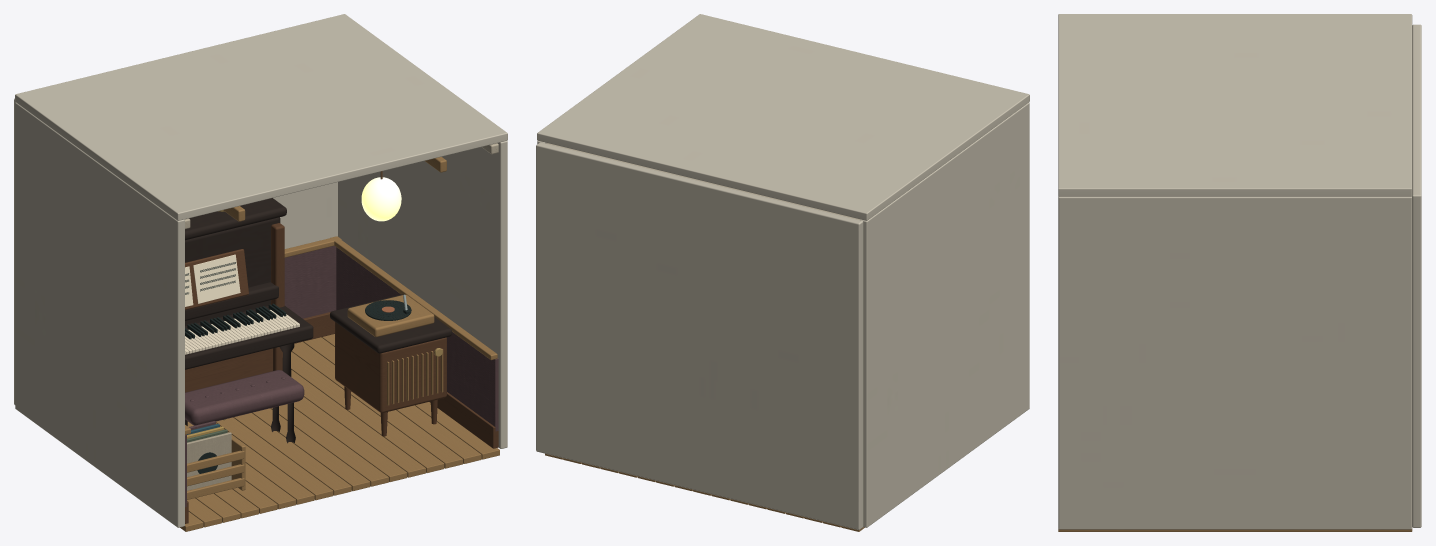
The model's file is music.glb.
The picture shows the model from 3 angles, left to right: view 1: azimuth 30°, elevation 25°; view 2: azimuth 150°, elevation 25°; view 3: azimuth 270°, elevation 25°; orthographic projection. The views are drawn at different scales.
Parts seen in each view (by area): view 1: Surface_Ivory_linen_plaster, Surface_Warm_oak, Surface_Claret_fabric, Surface_Walnut_joinery, Surface_Dark_oiled_walnut, Surface_Warm_paper, Surface_Ink, Surface_Cream_ceramic, Surface_emissive_warm, Surface_Linen, RecordPlatter; view 2: Surface_Ivory_linen_plaster, Surface_Warm_oak; view 3: Surface_Ivory_linen_plaster, Surface_Warm_oak.
Boxes of the visible parts, x1=… form: Surface_Ivory_linen_plaster: x1=14, y1=14, x2=507, y2=527; Surface_Warm_oak: x1=180, y1=157, x2=499, y2=531; Surface_Claret_fabric: x1=185, y1=245, x2=498, y2=507; Surface_Walnut_joinery: x1=185, y1=223, x2=498, y2=523; Surface_Dark_oiled_walnut: x1=185, y1=198, x2=451, y2=443; Surface_Warm_paper: x1=185, y1=254, x2=240, y2=306; Surface_Ink: x1=185, y1=262, x2=409, y2=473; Surface_Cream_ceramic: x1=185, y1=310, x2=299, y2=354; Surface_emissive_warm: x1=361, y1=177, x2=401, y2=221; Surface_Linen: x1=187, y1=432, x2=231, y2=490; RecordPlatter: x1=365, y1=300, x2=411, y2=320; Surface_Ivory_linen_plaster: x1=536, y1=14, x2=1029, y2=529; Surface_Warm_oak: x1=545, y1=453, x2=864, y2=531; Surface_Ivory_linen_plaster: x1=1058, y1=14, x2=1421, y2=529; Surface_Warm_oak: x1=1058, y1=529, x2=1412, y2=531.
Size of the model in its own units: 3.04 by 2.82 by 2.67.
Materials: 21 (10 with a texture image).
